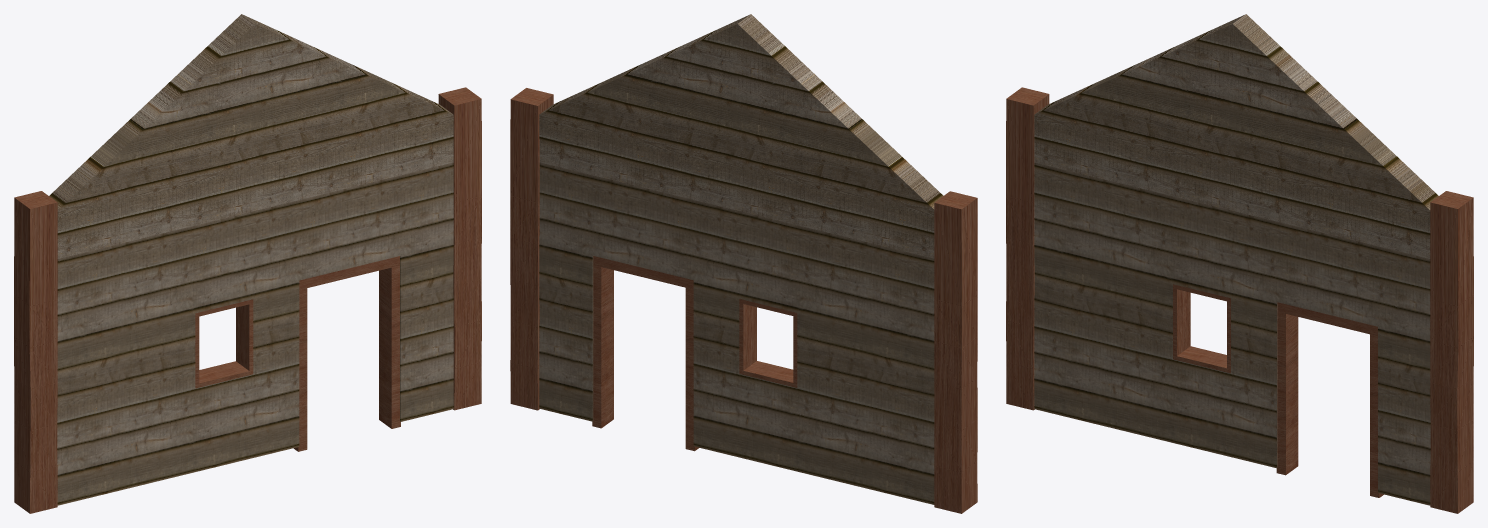
File: R1_depan.fbx
The picture shows the model from 3 angles, left to right: view 1: azimuth 30°, elevation 25°; view 2: azimuth 150°, elevation 25°; view 3: azimuth 330°, elevation 25°; orthographic projection.
Visible parts, largest first — view 1: Cube.010; view 2: Cube.010; view 3: Cube.010.
Boxes of the visible parts, x1,y1,x2,y2 form: Cube.010: (14, 14, 481, 513); Cube.010: (510, 14, 977, 513); Cube.010: (1006, 14, 1473, 513).
Bounding box in the file's own units: 13.43 × 12.46 × 0.8348.
2 materials, 2 textured.
